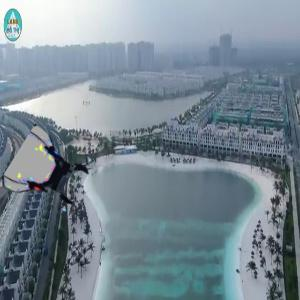drone: (13, 134, 92, 213)
